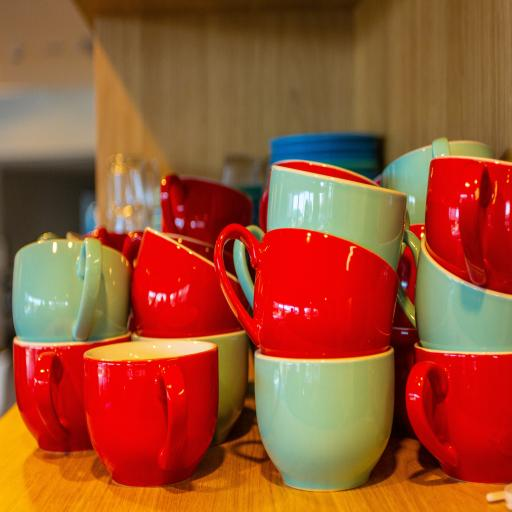cup: (214, 221, 399, 359), (84, 341, 219, 488), (405, 342, 512, 484), (13, 332, 131, 452), (124, 228, 249, 338), (424, 155, 512, 293), (160, 173, 254, 238)
